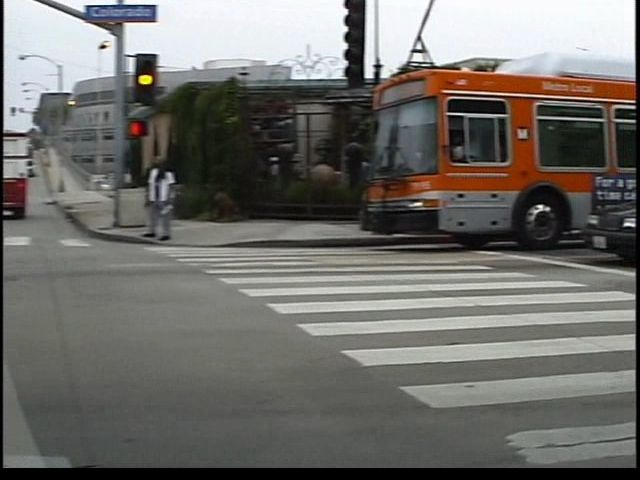person: (153, 153, 189, 246)
